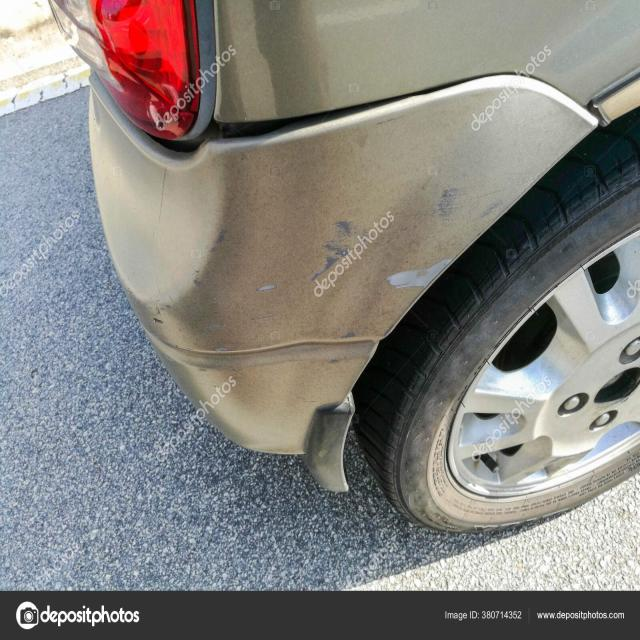misalignment: (144, 71, 540, 154)
scratch: (146, 173, 533, 386)
